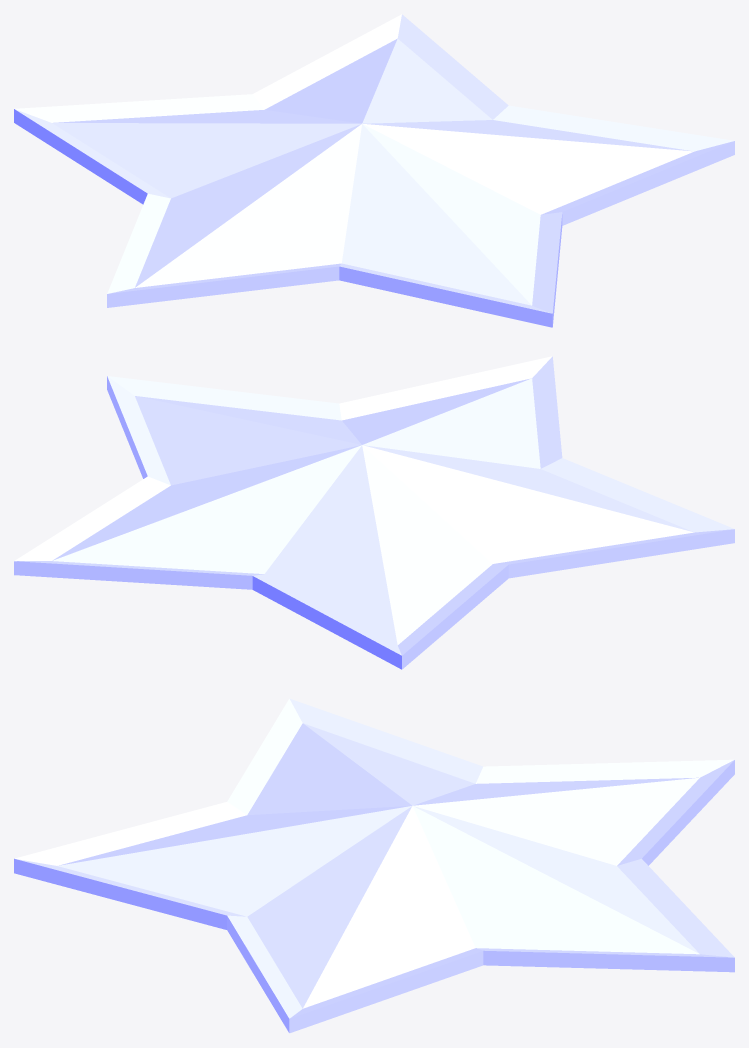
File: bluestar.glb
3 views of the same model, one above another, from view 1: azimuth 30°, elevation 25°; view 2: azimuth 150°, elevation 25°; view 3: azimuth 270°, elevation 25° (orthographic). The views are drawn at different scales.
Parts seen in each view (by area): view 1: Star; view 2: Star; view 3: Star.
Boxes of the visible parts, x1,y1,x2,y2 form: Star: (14,14,734,327); Star: (14,356,734,669); Star: (14,698,734,1033).
Size of the model in its own units: 1.9 by 0.3333 by 1.81.
